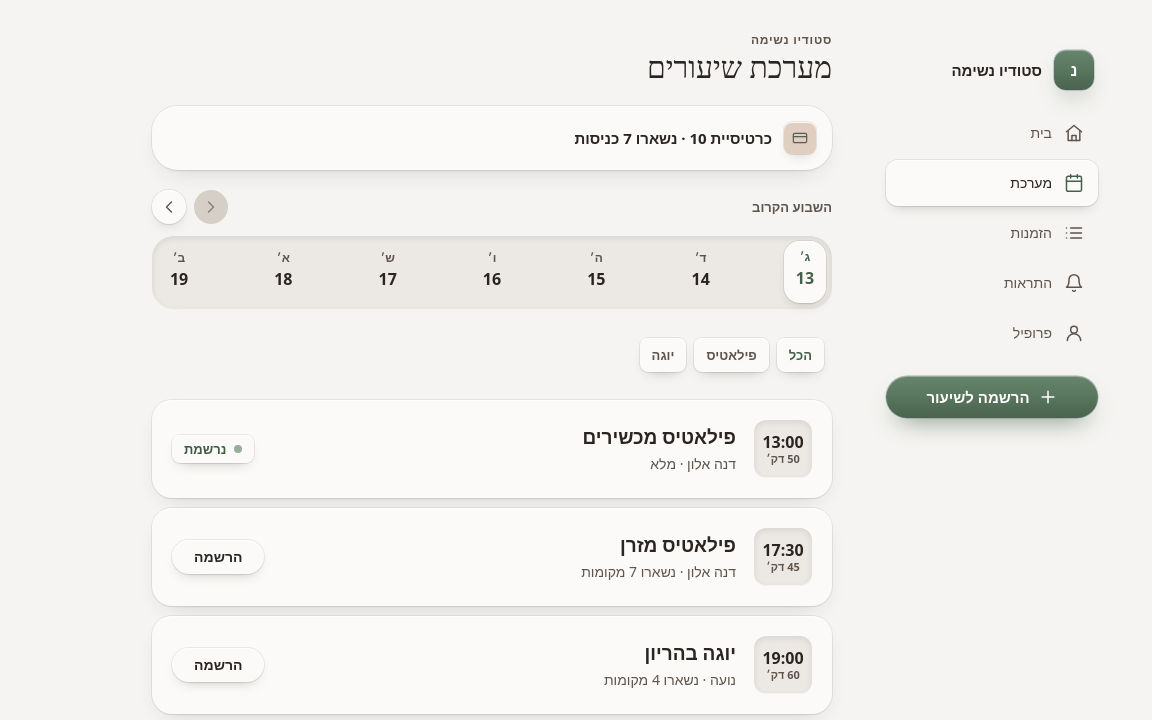
Scenario: booking a class › books through the sheet: the pass it uses, the free-cancel time, the entries left
The width and height of the screenshot is (1152, 720).
Expected: the heading "מערכת שיעורים" is shown, [647,51,832,84]
Step 1. Click the button with aria-label "הרשמה לשיעור יוגה בהריון ב-19:00" → (218, 665), box [172,648,264,682]
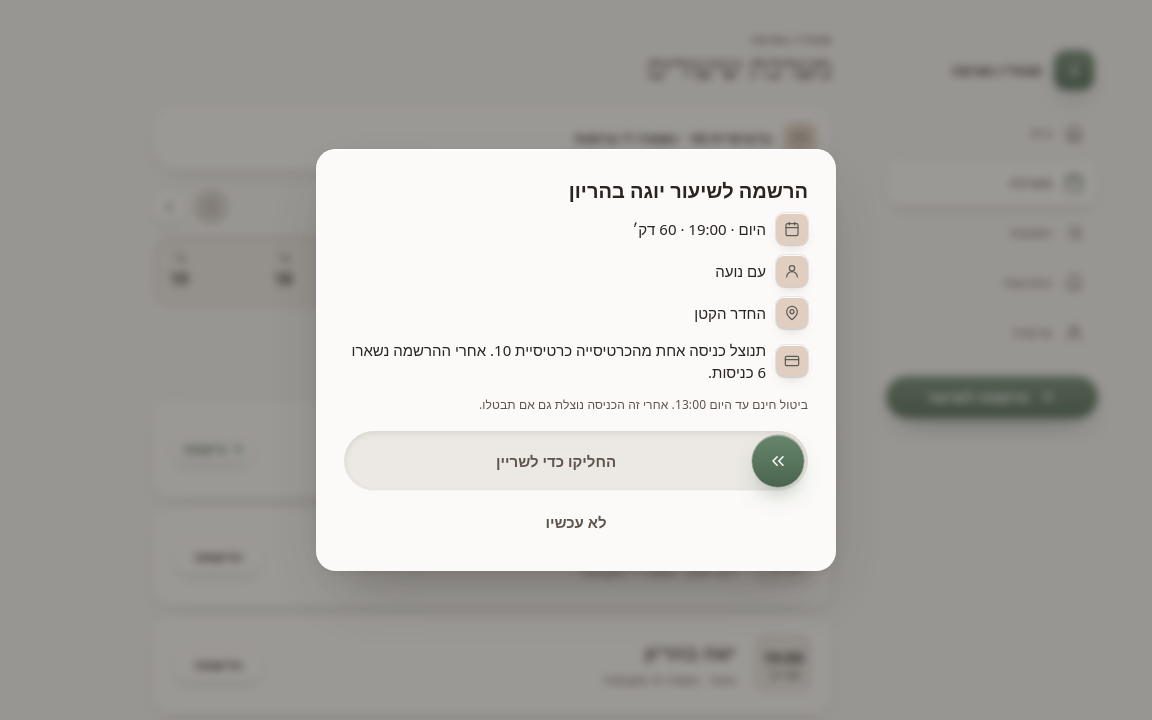
Expected: the dialog "הרשמה לשיעור יוגה בהריון" shows "היום · 19:00 · 60 דק׳", [316,149,836,571]
Expected: the dialog "הרשמה לשיעור יוגה בהריון" shows "עם נועה", [316,149,836,571]
Expected: the dialog "הרשמה לשיעור יוגה בהריון" shows "החדר הקטן", [694,303,766,323]
Step 2. Click the button named "אישור ההרשמה" → (778, 461), box [752,435,804,487]
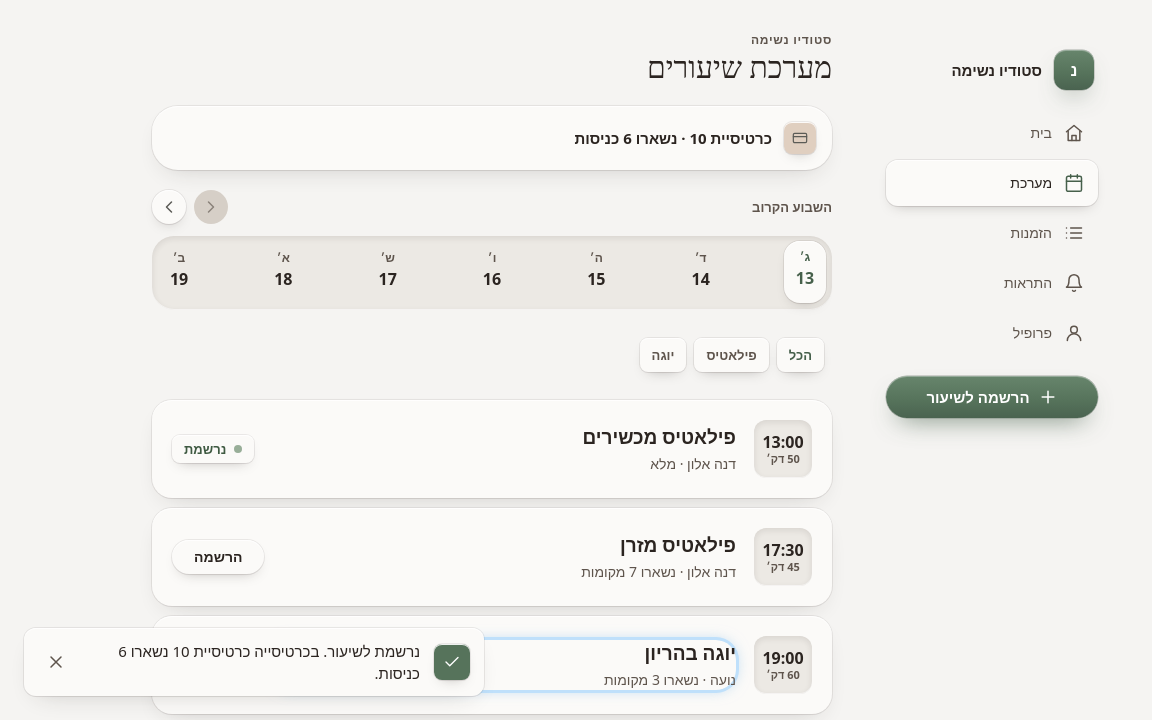
Expected: the dialog is gone
